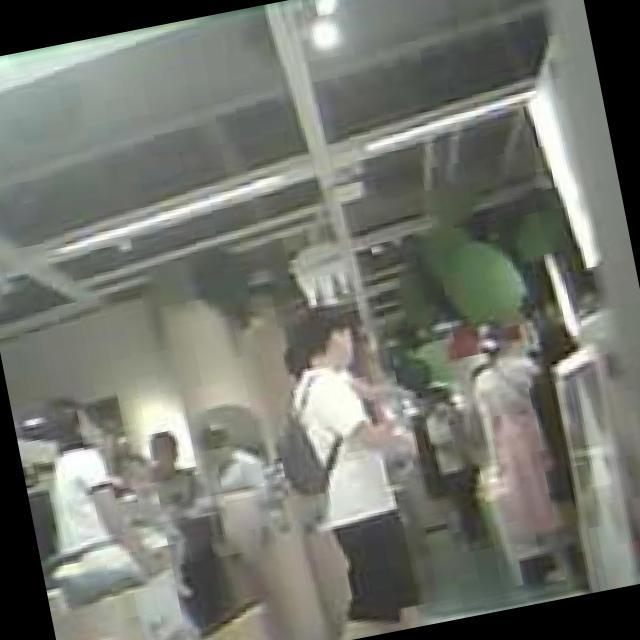person: (279, 297, 447, 640), (456, 312, 598, 592), (139, 422, 236, 633), (32, 398, 138, 568), (418, 382, 499, 542), (197, 414, 270, 504)
